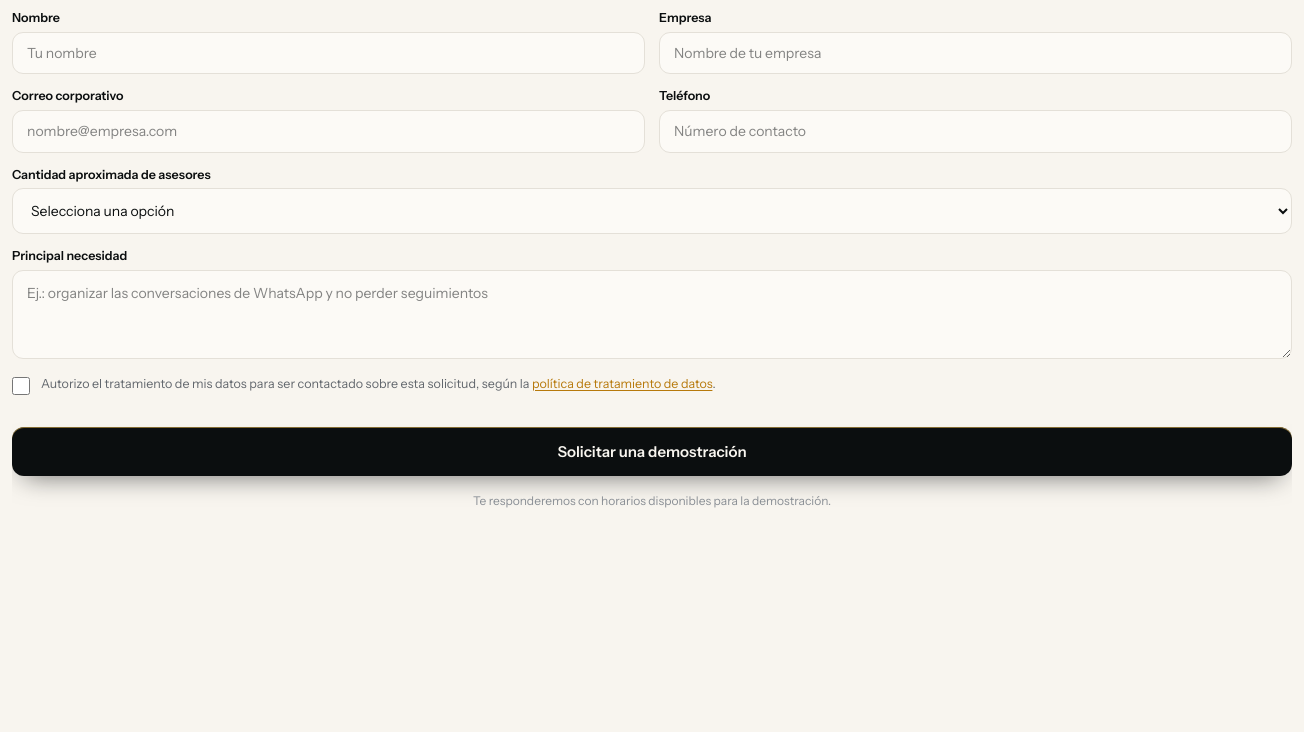
Test: DemoForm › bloquea el envío vacío y muestra los errores asociados a cada campo
Click the button "Solicitar una demostración" at (652, 451), box [12,427,1292,476]
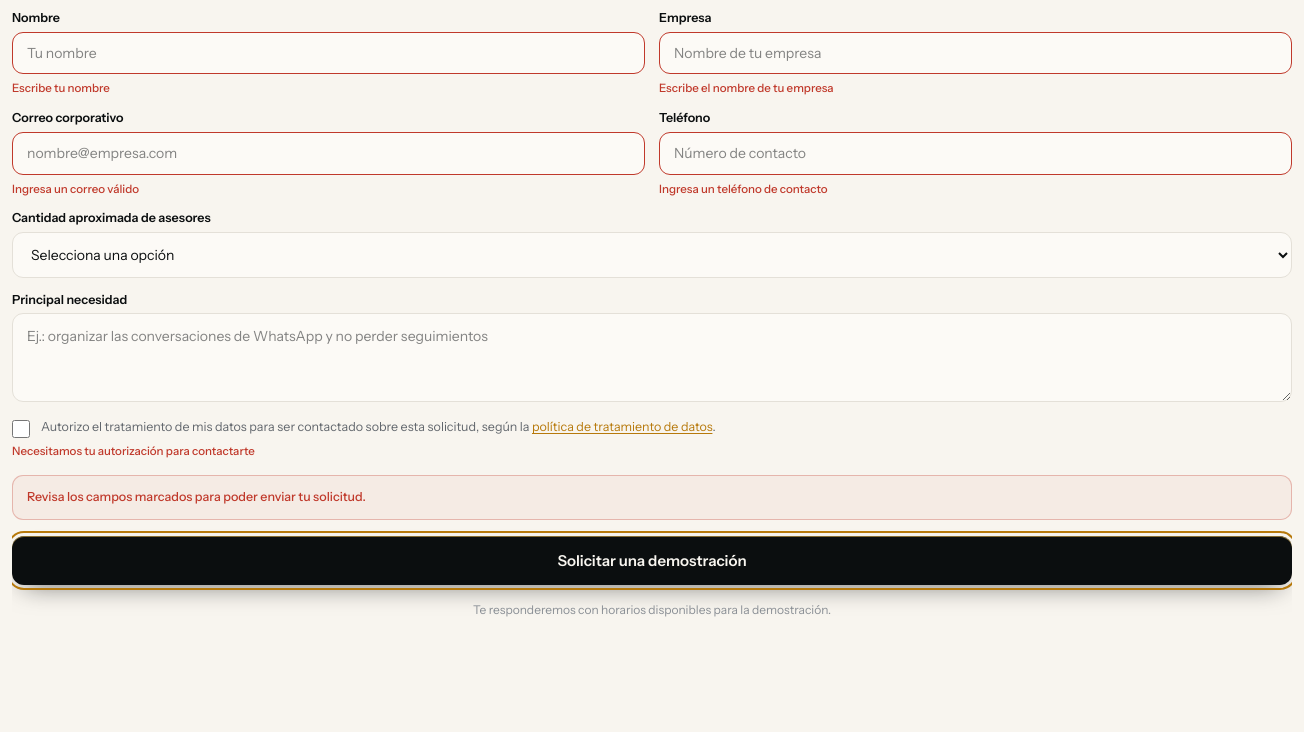
Now the text "Escribe tu nombre" is shown, box [12,81,110,95]
Now the text "Ingresa un correo válido" is shown, box [12,182,139,196]
Now the text "Necesitamos tu autorización para contactarte" is shown, box [12,444,255,458]
